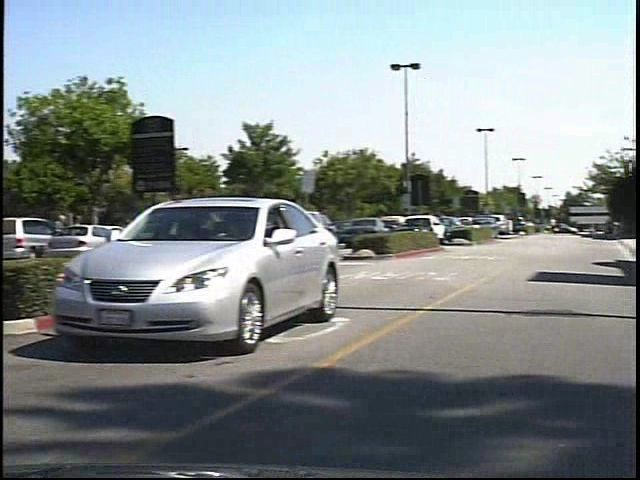person: (560, 216, 572, 238)
